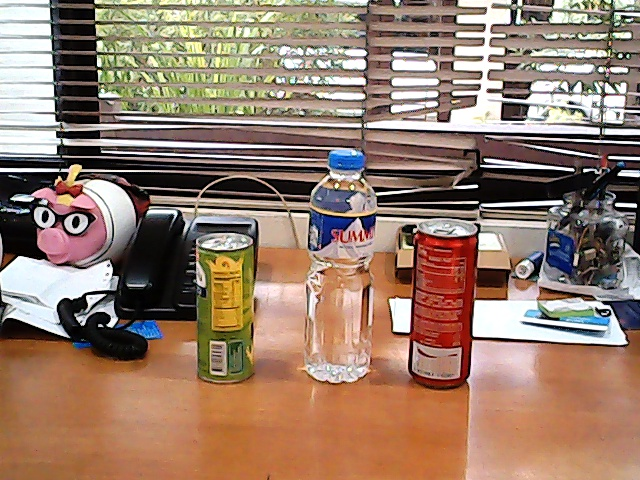Cola: (409, 219, 482, 391)
Pine Juice: (192, 231, 260, 387)
Summit Water: (299, 142, 383, 386)
